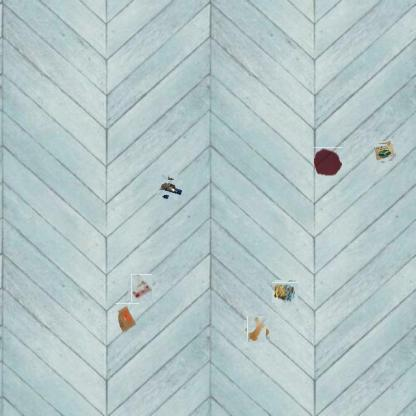dirty: (115, 303, 139, 334), (129, 275, 154, 300), (274, 281, 297, 305), (160, 176, 181, 198), (375, 142, 395, 162)
liquid: (313, 147, 343, 176), (246, 318, 268, 341)
